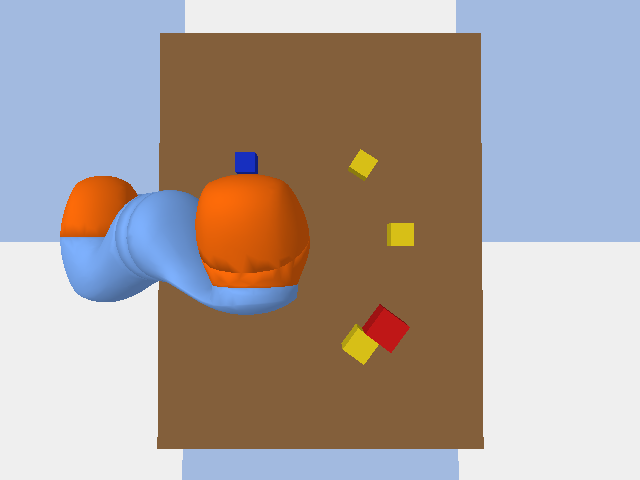blue_obj: (235, 152, 257, 173)
red_obj: (362, 304, 409, 352)
yellow_obj: (341, 324, 378, 364), (348, 149, 377, 180), (387, 223, 413, 245)
